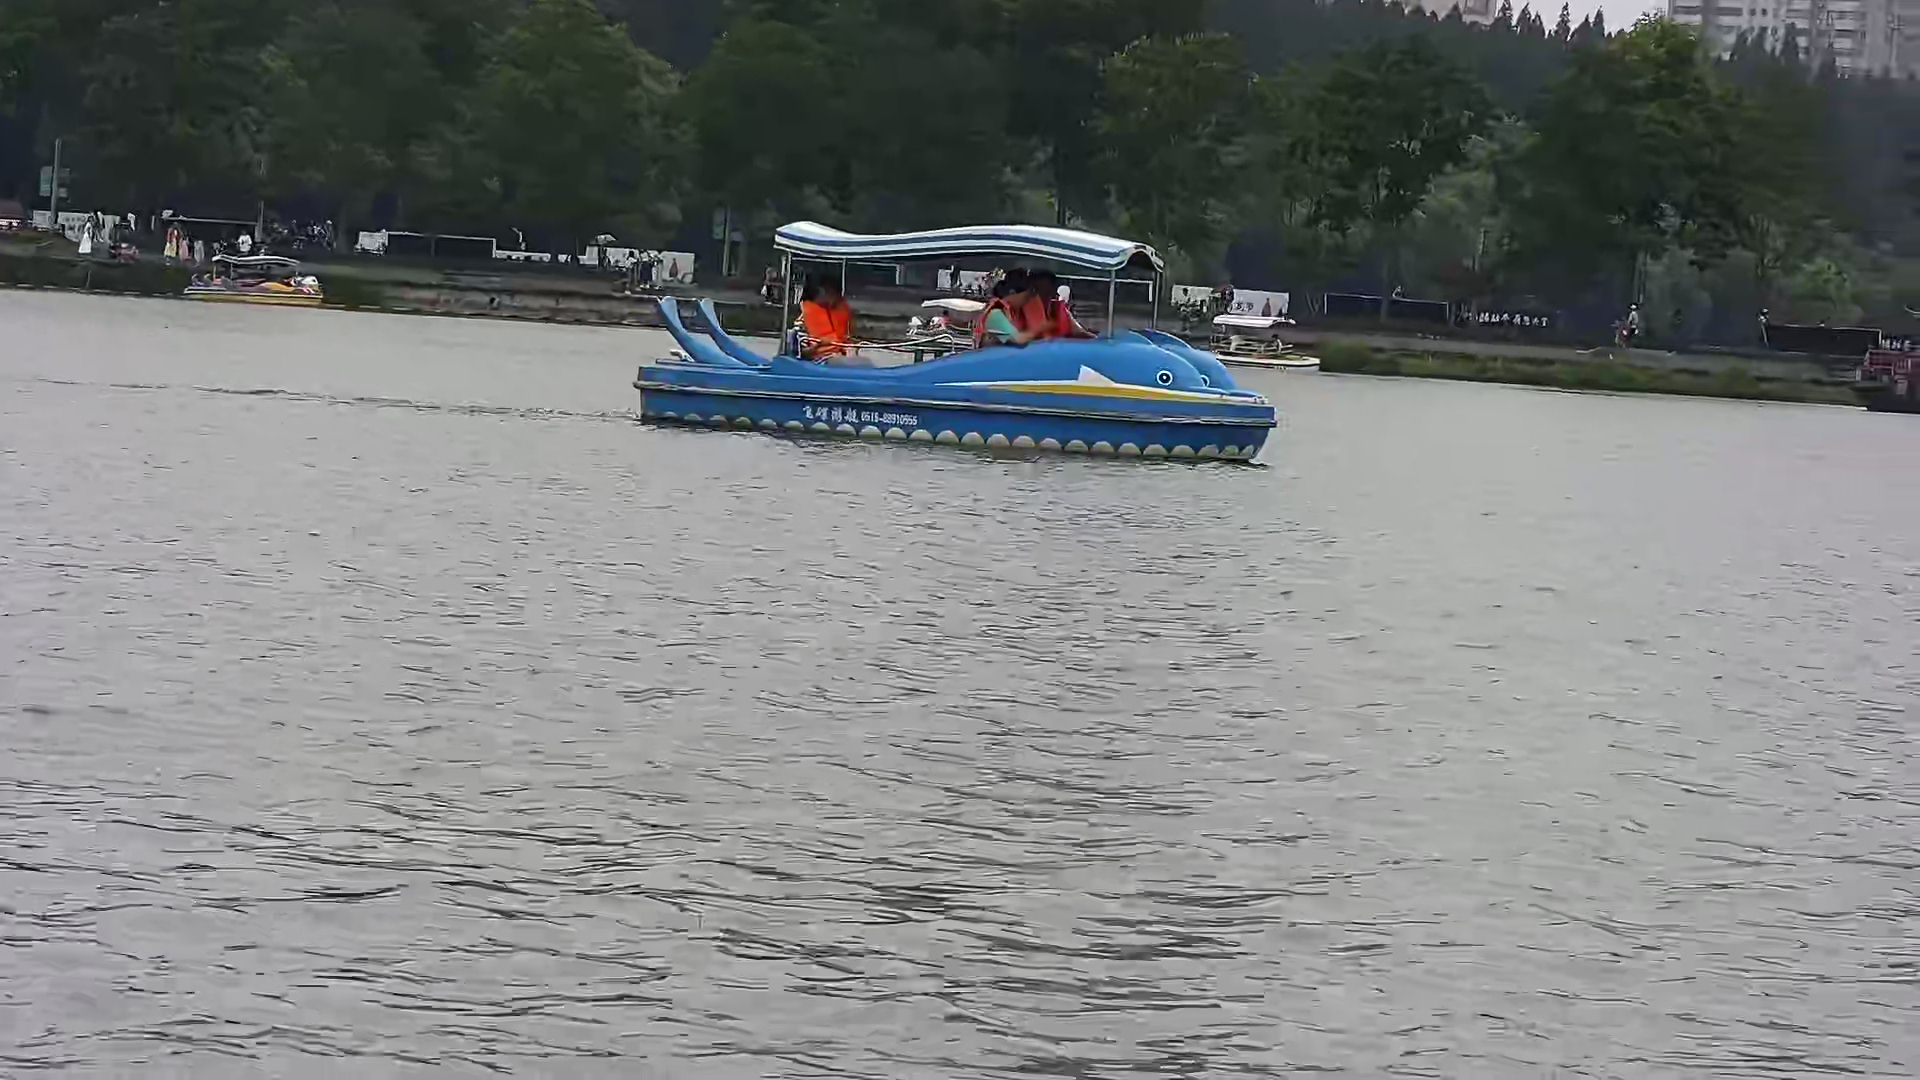boat: (610, 188, 1273, 466), (174, 252, 324, 308)
person: (968, 279, 1037, 366), (786, 277, 852, 353), (1029, 268, 1078, 350)
